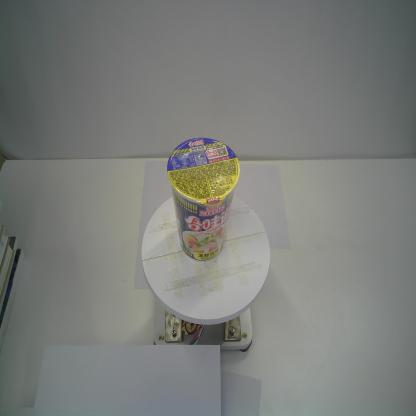Instant Noodles: (167, 136, 240, 263)
